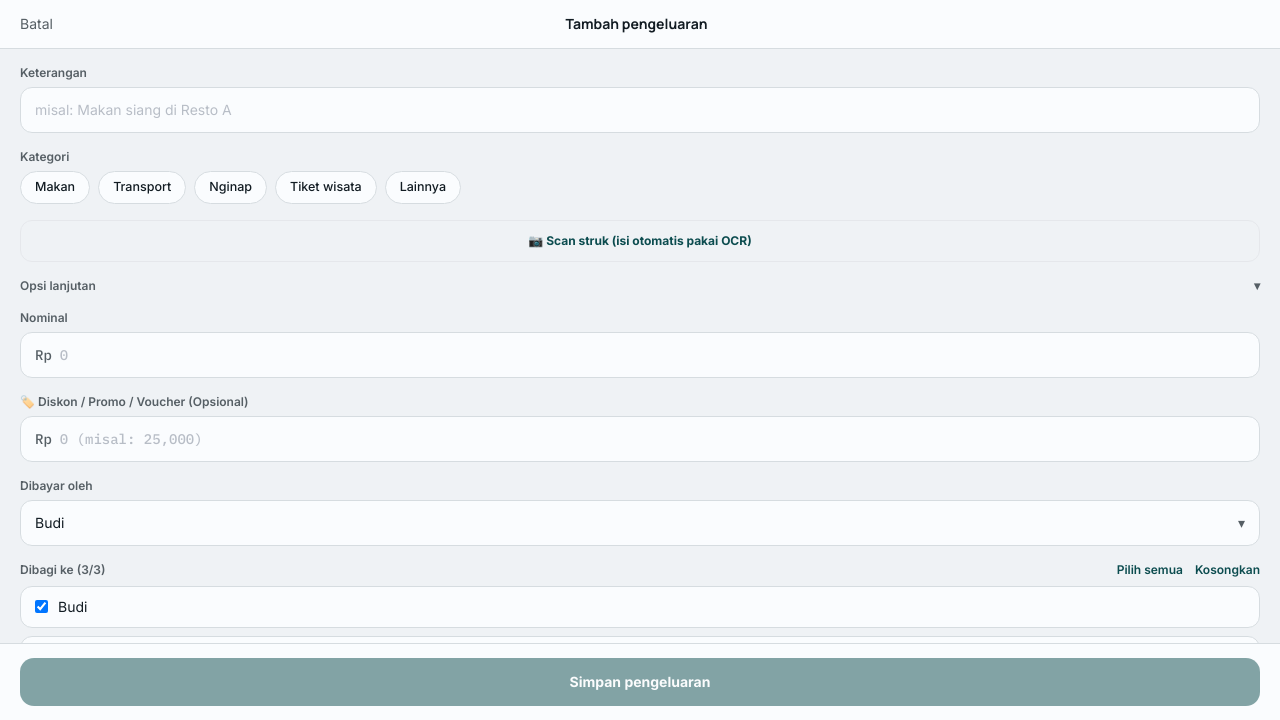
AddEditSubTripSheet — split mode toggle › Opsi lanjutan is collapsed by default and opens on click
Expected: the text "Jumlah total" is not shown
Click the text "Opsi lanjutan". click: (58, 286)
box: [20,278,96,294]
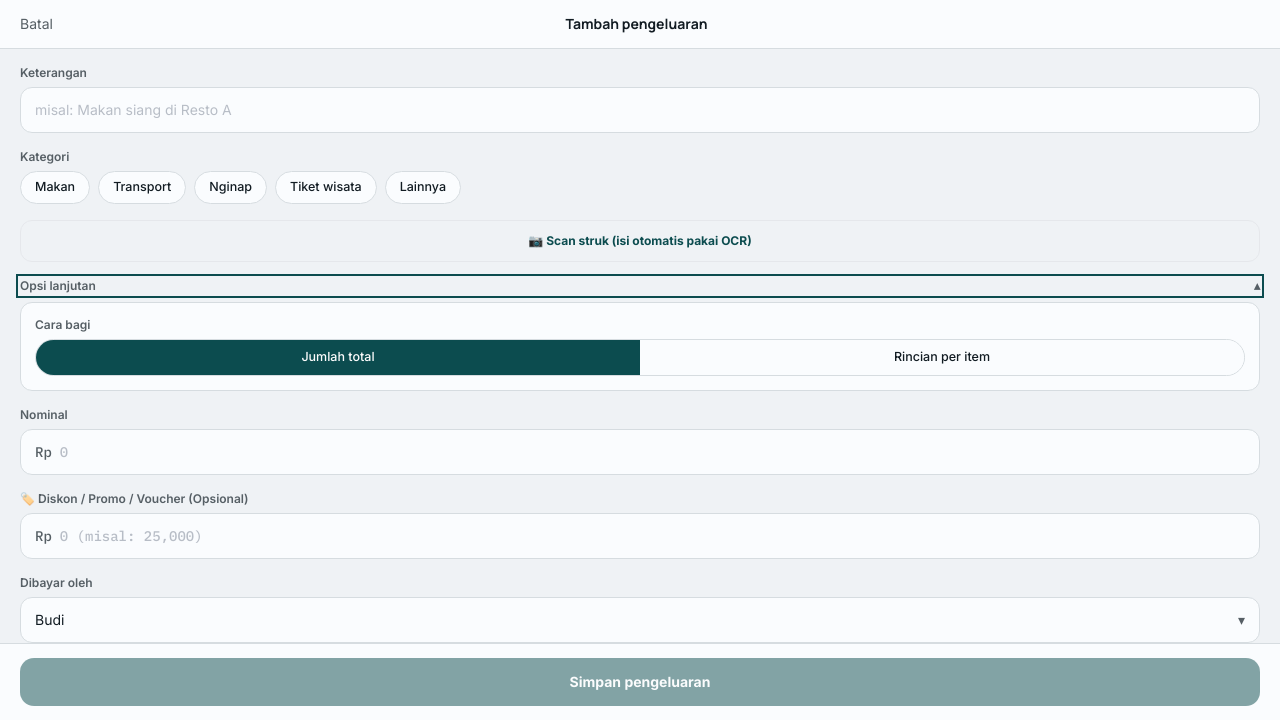
Now the button "Jumlah total" is shown, box [36,340,640,375]
